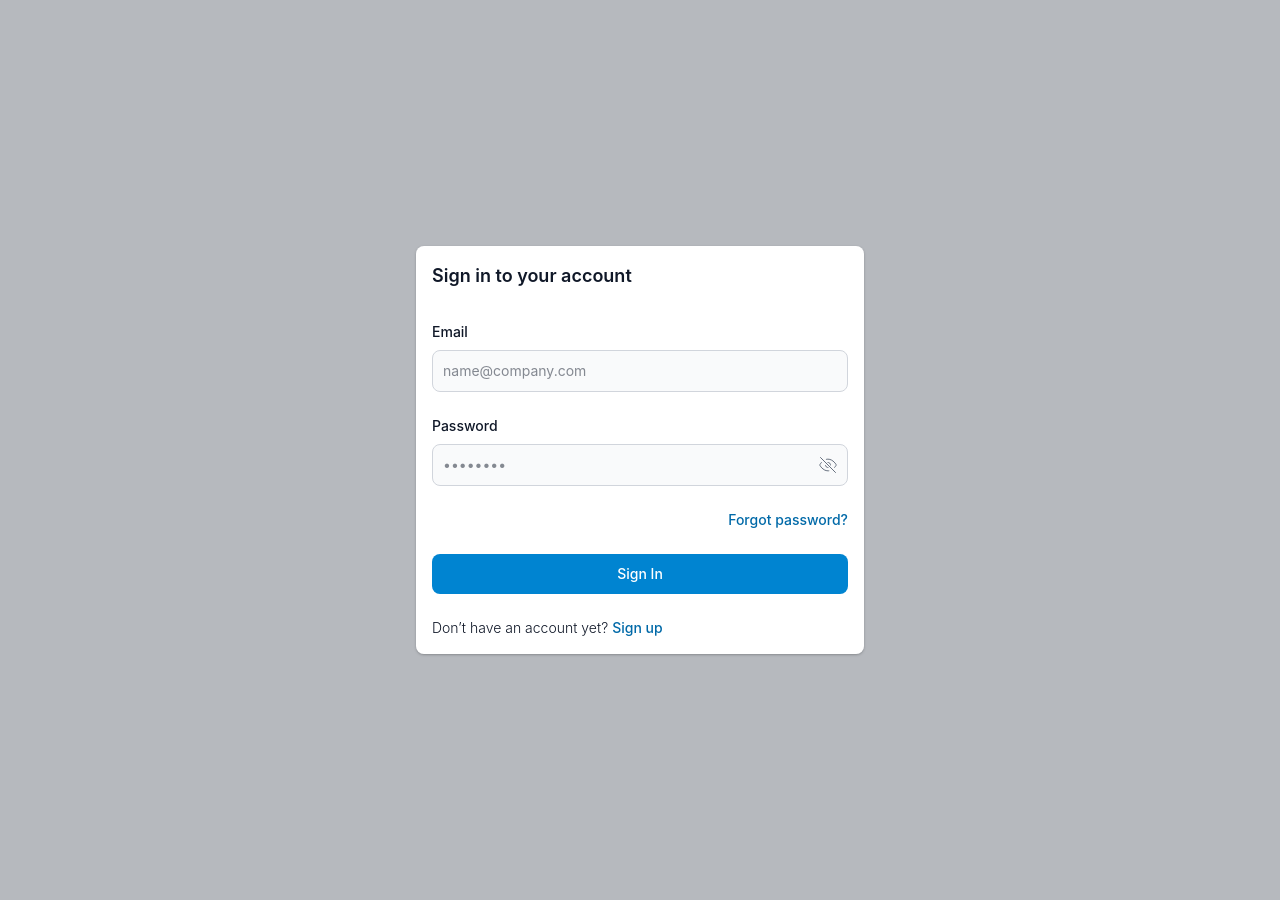
Test case: show default fields
Click the button "Sign up" at (637, 628), box [612,618,663,638]
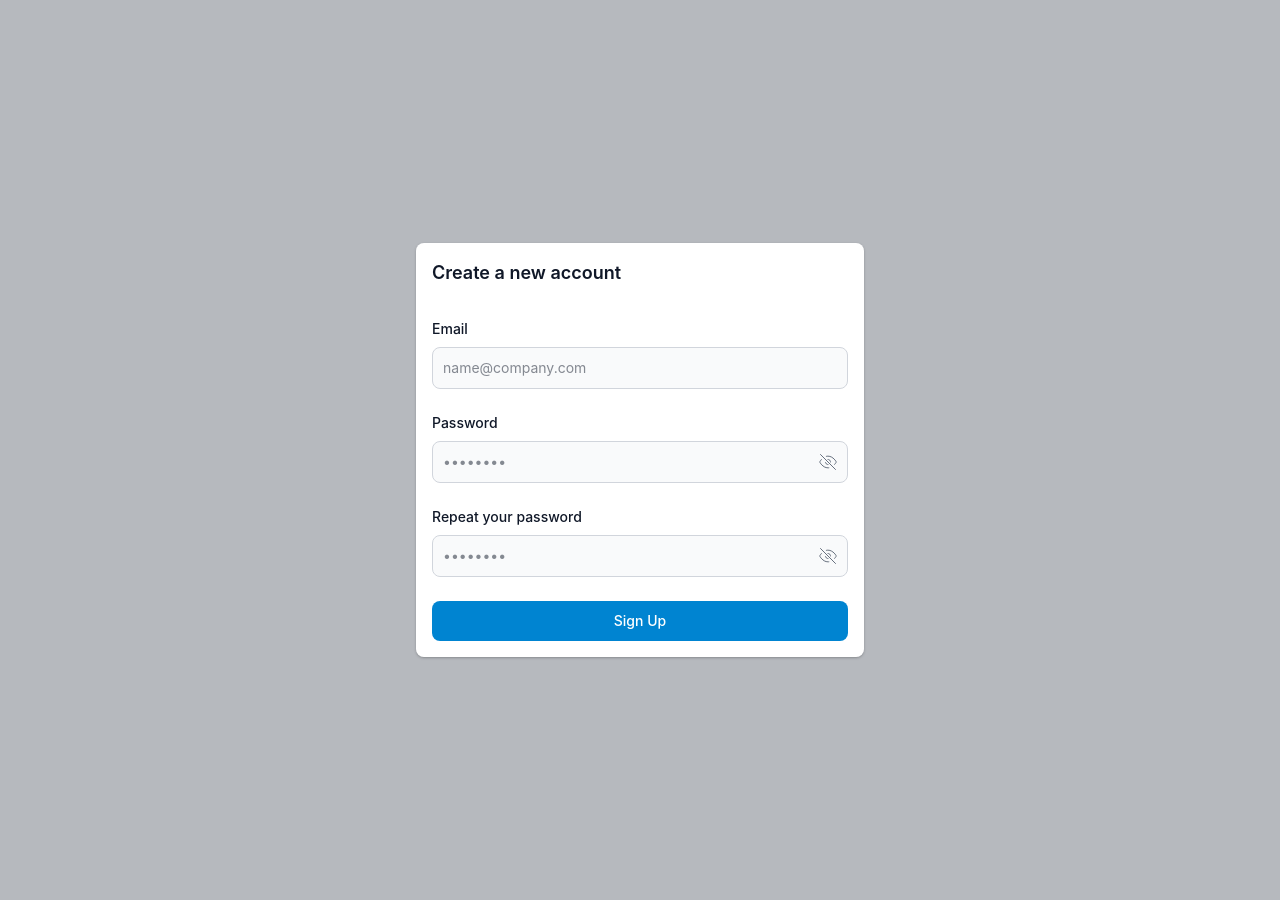
Expected: the heading reads "Create a new account", [432,262,621,283]
Expected: the password field labelled "Repeat your password" is shown, [432,535,848,577]
Expected: the button "Sign Up" is shown, [432,601,848,641]
